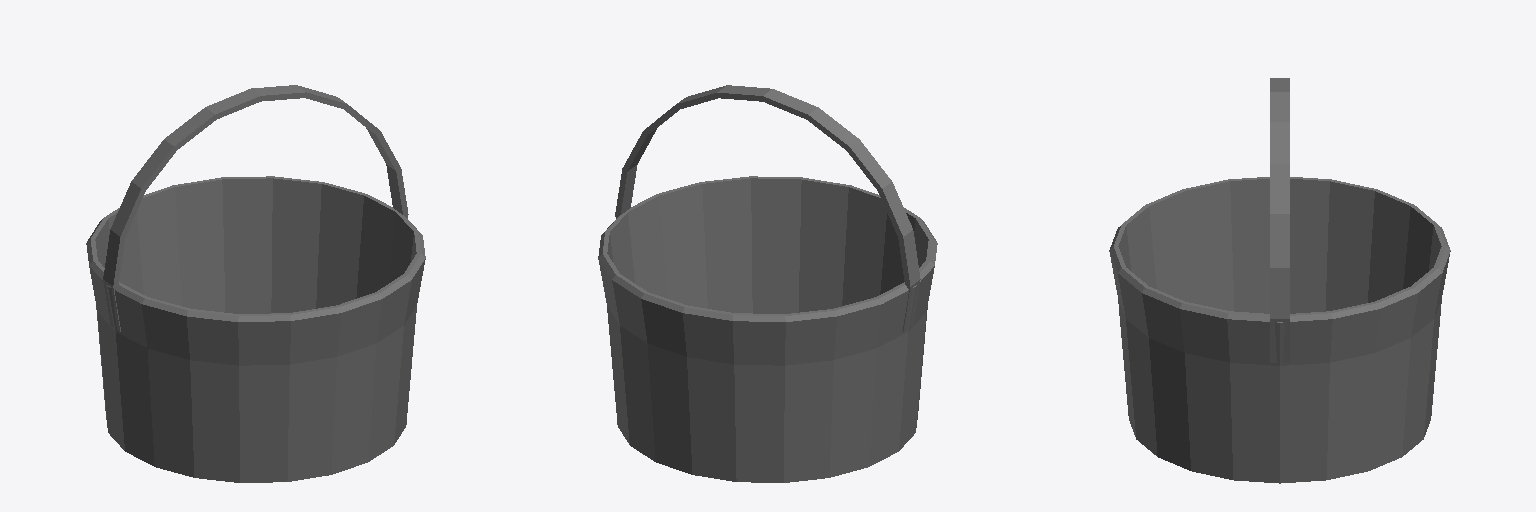
Rendered from pot_2.obj.
The picture shows the model from 3 angles: view 1: azimuth 30°, elevation 25°; view 2: azimuth 150°, elevation 25°; view 3: azimuth 270°, elevation 25°; orthographic projection.
Visible parts, largest first — view 1: pot_2; view 2: pot_2; view 3: pot_2.
Boxes of the visible parts, x1=… form: pot_2: x1=86, y1=85, x2=425, y2=482; pot_2: x1=598, y1=85, x2=937, y2=482; pot_2: x1=1109, y1=78, x2=1450, y2=483.
Size of the model in its own units: 25.3 by 26.77 by 25.3.